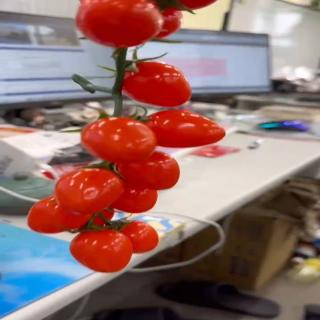tomato: (76, 0, 165, 47), (82, 117, 160, 164), (121, 59, 192, 109), (146, 111, 230, 151), (54, 167, 125, 214), (70, 227, 134, 273), (115, 150, 181, 192), (27, 195, 95, 234), (120, 220, 160, 255)
